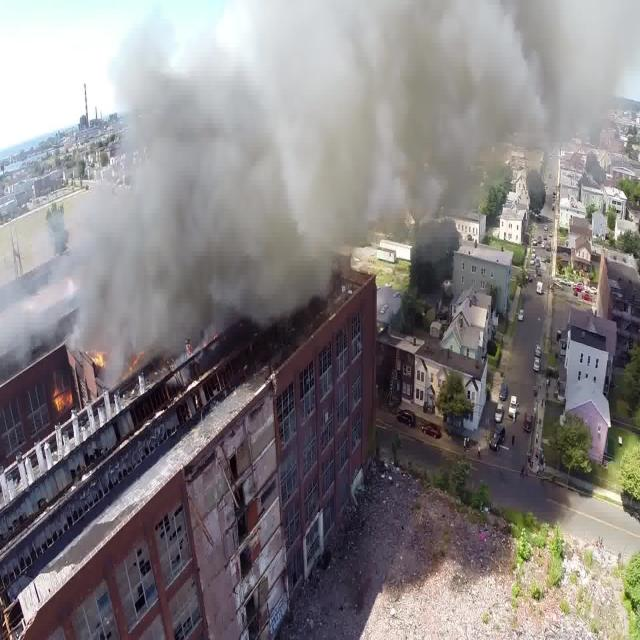smoke: (122, 0, 635, 134), (88, 157, 334, 316)
